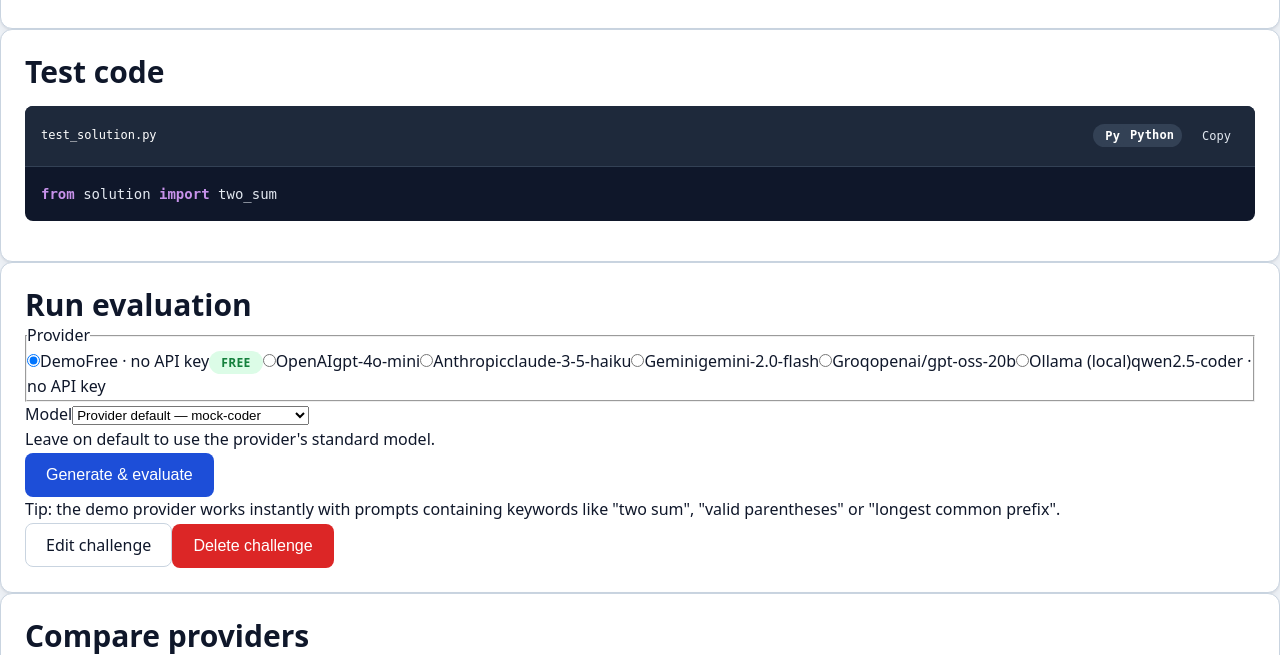
it: ChallengeDetail › requires an API key before submitting to key-required providers
(page scrolled)
Click the radio button labelled "Anthropic": (427, 360) x1=420 y1=354 x2=433 y2=367
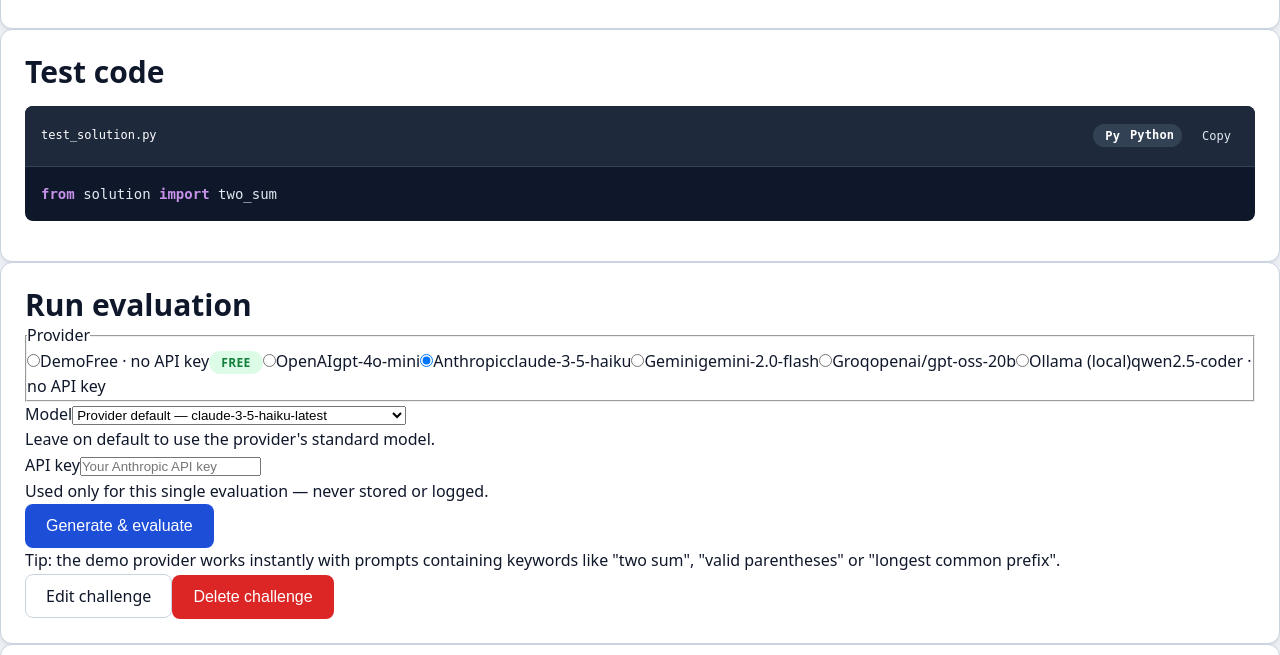
Click the button "Generate & evaluate": (119, 526) x1=25 y1=504 x2=214 y2=548
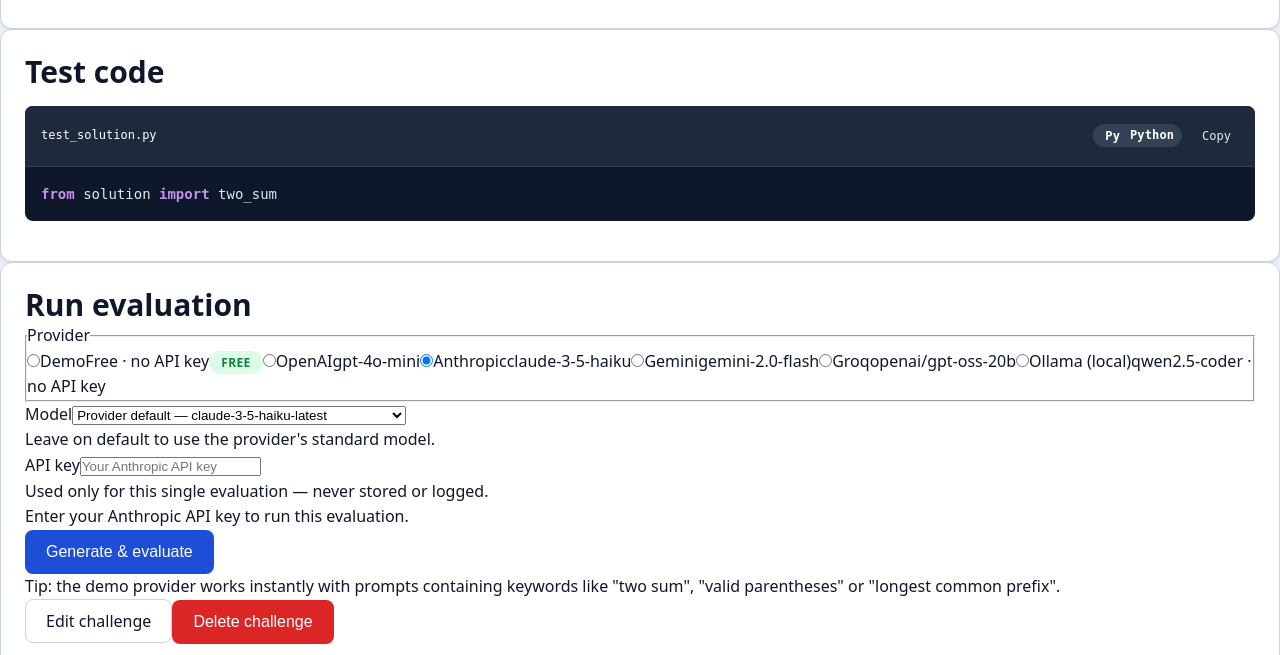
Now the message shows "Enter your Anthropic API key", box x1=25 y1=505 x2=409 y2=527
